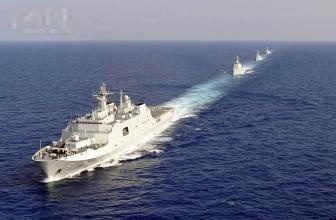warship: (30, 86, 178, 185), (227, 51, 249, 78), (253, 48, 267, 61), (264, 46, 274, 54)
